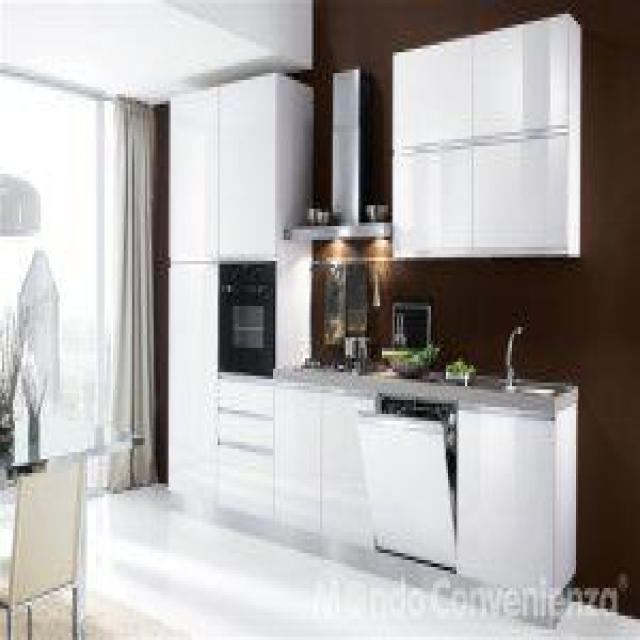dishwasher: (350, 393, 463, 577)
